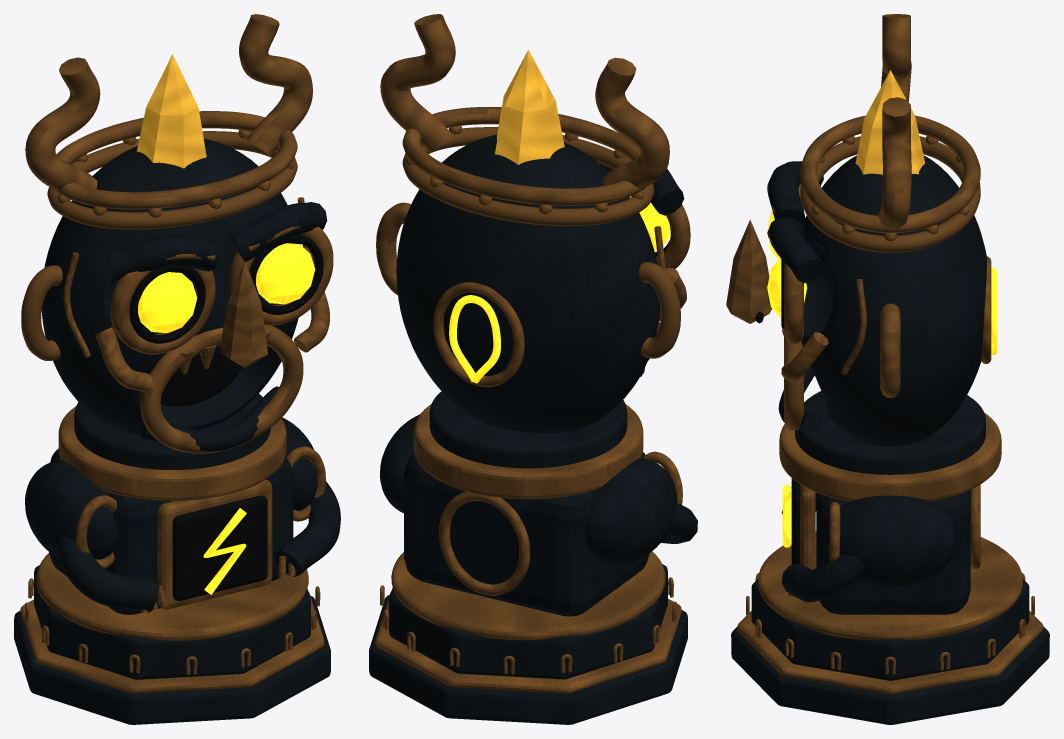
File: 04_Raio.gltf
The picture shows the model from 3 angles, left to right: view 1: azimuth 30°, elevation 25°; view 2: azimuth 150°, elevation 25°; view 3: azimuth 270°, elevation 25°; orthographic projection. The views are drawn at different scales.
Visible parts, largest first — view 1: 04_Raio__04_Raio_patinated_metal__0, 04_Raio__Antique_champagne_brass__0, 04_Raio__Cavity_obsidian__0, 04_Raio__Antique_champagne_brass__2, 04_Raio__Antique_champagne_brass__4, 04_Raio__Antique_champagne_brass__1, 04_Raio__Antique_champagne_brass__3, 04_Raio__04_Raio_Luminous__0, 04_Raio__04_Raio_cut_crystal__0, 04_Raio__Angular_sigil; view 2: 04_Raio__04_Raio_patinated_metal__0, 04_Raio__Antique_champagne_brass__0, 04_Raio__Antique_champagne_brass__4, 04_Raio__Antique_champagne_brass__3, 04_Raio__Antique_champagne_brass__2, 04_Raio__04_Raio_cut_crystal__0, 04_Raio__Antique_champagne_brass__1, 04_Raio__04_Raio_Luminous__0; view 3: 04_Raio__04_Raio_patinated_metal__0, 04_Raio__Antique_champagne_brass__0, 04_Raio__Antique_champagne_brass__1, 04_Raio__Antique_champagne_brass__4, 04_Raio__Antique_champagne_brass__3, 04_Raio__Antique_champagne_brass__2, 04_Raio__04_Raio_cut_crystal__0, 04_Raio__04_Raio_Luminous__0, 04_Raio__Cavity_obsidian__0, 04_Raio__Angular_sigil.
Part boxes in pixels (x1=…): 04_Raio__04_Raio_patinated_metal__0: x1=14, y1=138, x2=340, y2=724; 04_Raio__Antique_champagne_brass__0: x1=20, y1=254, x2=325, y2=693; 04_Raio__Cavity_obsidian__0: x1=129, y1=234, x2=323, y2=600; 04_Raio__Antique_champagne_brass__2: x1=47, y1=131, x2=303, y2=453; 04_Raio__Antique_champagne_brass__4: x1=25, y1=14, x2=320, y2=674; 04_Raio__Antique_champagne_brass__1: x1=21, y1=197, x2=333, y2=367; 04_Raio__Antique_champagne_brass__3: x1=54, y1=111, x2=297, y2=217; 04_Raio__04_Raio_Luminous__0: x1=138, y1=243, x2=315, y2=332; 04_Raio__04_Raio_cut_crystal__0: x1=136, y1=54, x2=206, y2=168; 04_Raio__Angular_sigil: x1=203, y1=508, x2=246, y2=594; 04_Raio__04_Raio_patinated_metal__0: x1=369, y1=126, x2=697, y2=724; 04_Raio__Antique_champagne_brass__0: x1=375, y1=204, x2=690, y2=693; 04_Raio__Antique_champagne_brass__4: x1=380, y1=14, x2=677, y2=674; 04_Raio__Antique_champagne_brass__3: x1=402, y1=107, x2=646, y2=595; 04_Raio__Antique_champagne_brass__2: x1=402, y1=127, x2=659, y2=360; 04_Raio__04_Raio_cut_crystal__0: x1=494, y1=50, x2=564, y2=164; 04_Raio__Antique_champagne_brass__1: x1=376, y1=202, x2=680, y2=358; 04_Raio__04_Raio_Luminous__0: x1=449, y1=196, x2=670, y2=383; 04_Raio__04_Raio_patinated_metal__0: x1=731, y1=155, x2=1049, y2=724; 04_Raio__Antique_champagne_brass__0: x1=737, y1=180, x2=1043, y2=694; 04_Raio__Antique_champagne_brass__1: x1=726, y1=219, x2=900, y2=397; 04_Raio__Antique_champagne_brass__4: x1=746, y1=14, x2=1034, y2=674; 04_Raio__Antique_champagne_brass__3: x1=800, y1=115, x2=980, y2=569; 04_Raio__Antique_champagne_brass__2: x1=782, y1=136, x2=980, y2=430; 04_Raio__04_Raio_cut_crystal__0: x1=855, y1=70, x2=924, y2=174; 04_Raio__04_Raio_Luminous__0: x1=767, y1=211, x2=997, y2=354; 04_Raio__Cavity_obsidian__0: x1=755, y1=259, x2=800, y2=564; 04_Raio__Angular_sigil: x1=782, y1=485, x2=791, y2=547.
Size of the model in its own units: 2.18 by 4.31 by 2.1.
Materials: 5 (5 with a texture image).
